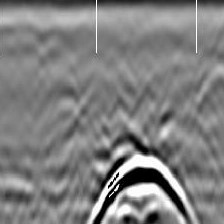Utility: (83, 151, 203, 224)
